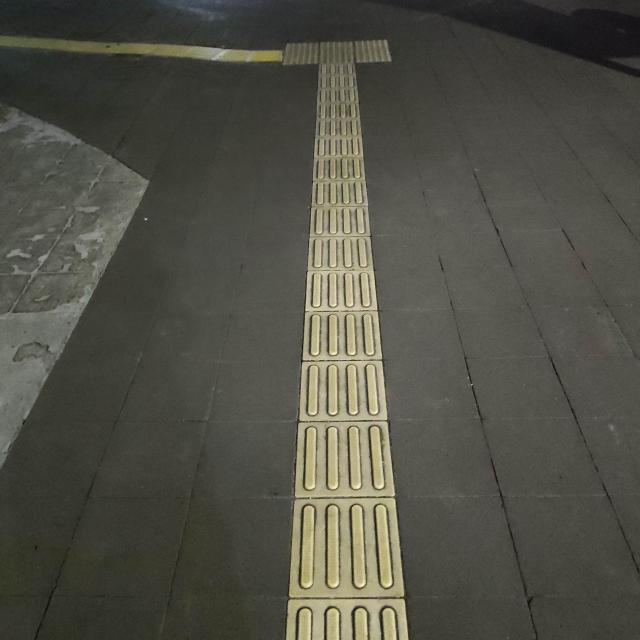kiri: (227, 20, 372, 90)
